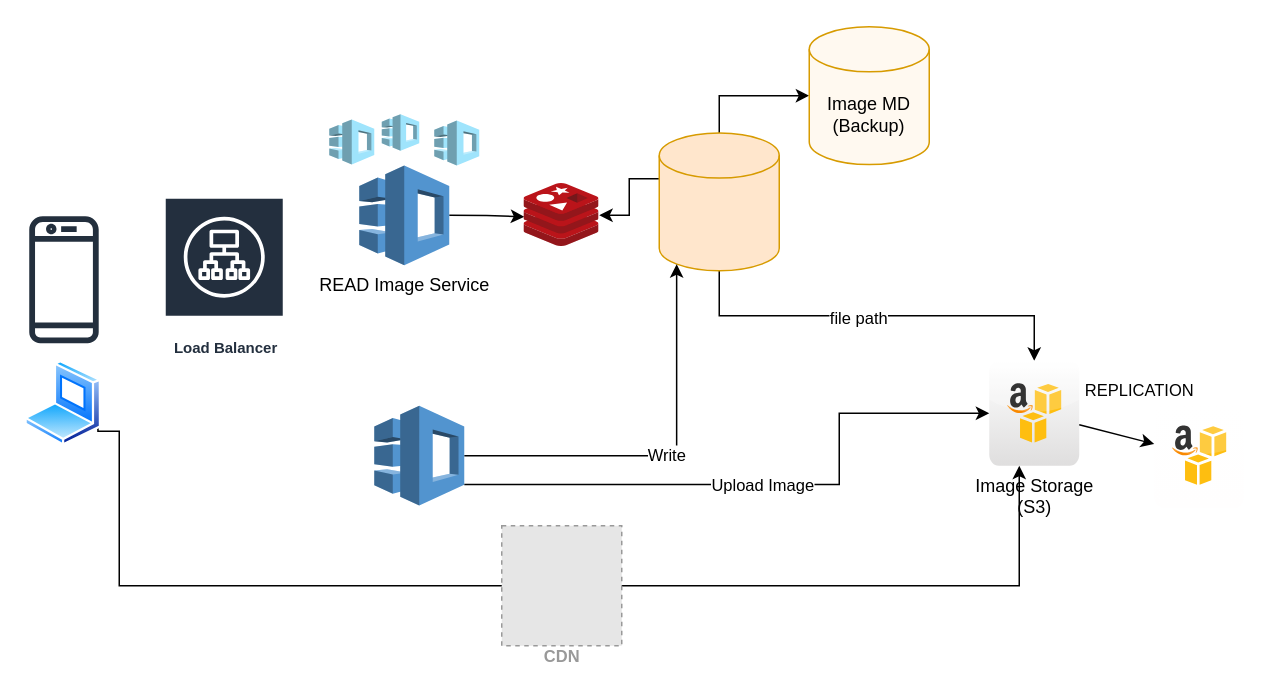
The diagram is 1286 pixels wide and 693 high, and some of its shapes have lost their labels. Grey dashed boxes stand in for pictures. The box of each missing label's shape, as (x1, y1, x2, y2) in pixels:
Image Storage (Replicate): (1153, 402, 1244, 508)
MetaData Image: (658, 132, 779, 271)
WRITE Image Service: (373, 404, 464, 506)
